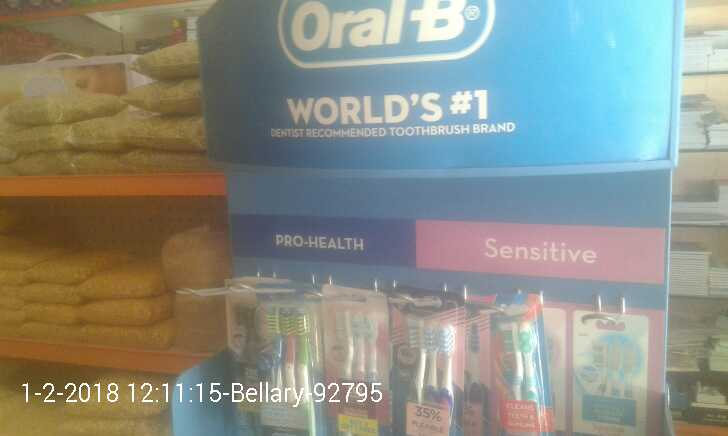oralb: (323, 286, 398, 435), (243, 302, 321, 436), (480, 297, 548, 436), (400, 290, 460, 436)
